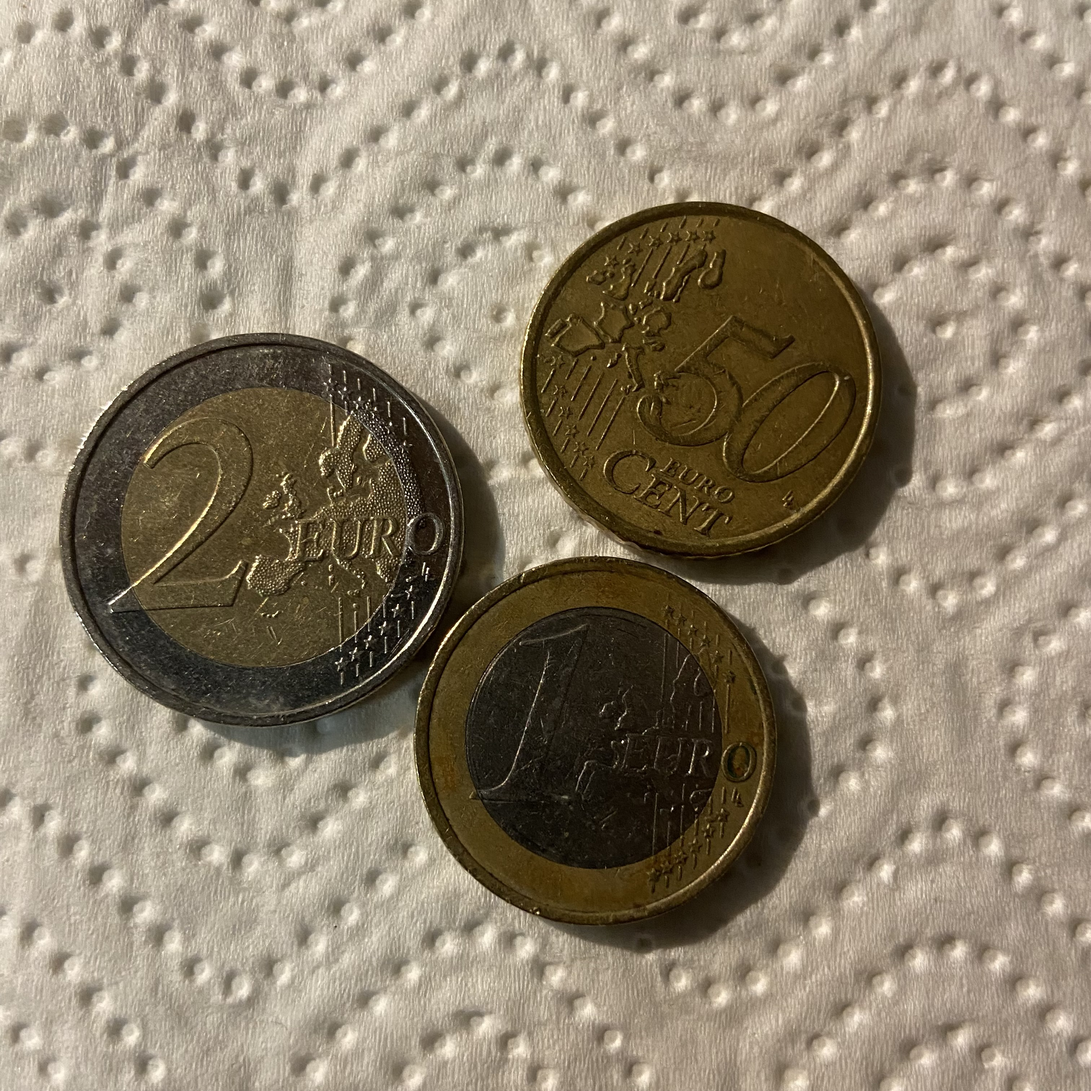1 euro: (411, 555, 797, 925)
2 euro: (49, 332, 478, 730)
50 cent: (513, 198, 892, 584)
